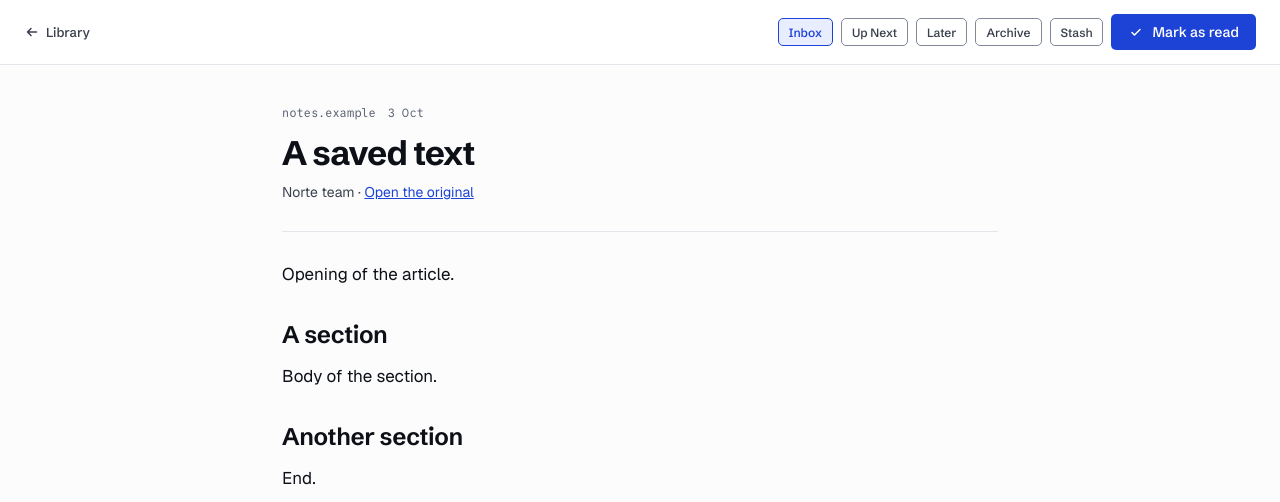
Scenario: the reader and the shelf an item sits on › marks it read and shows what came back
Click the button "Mark as read" at (1184, 32), box [1112,14,1256,50]
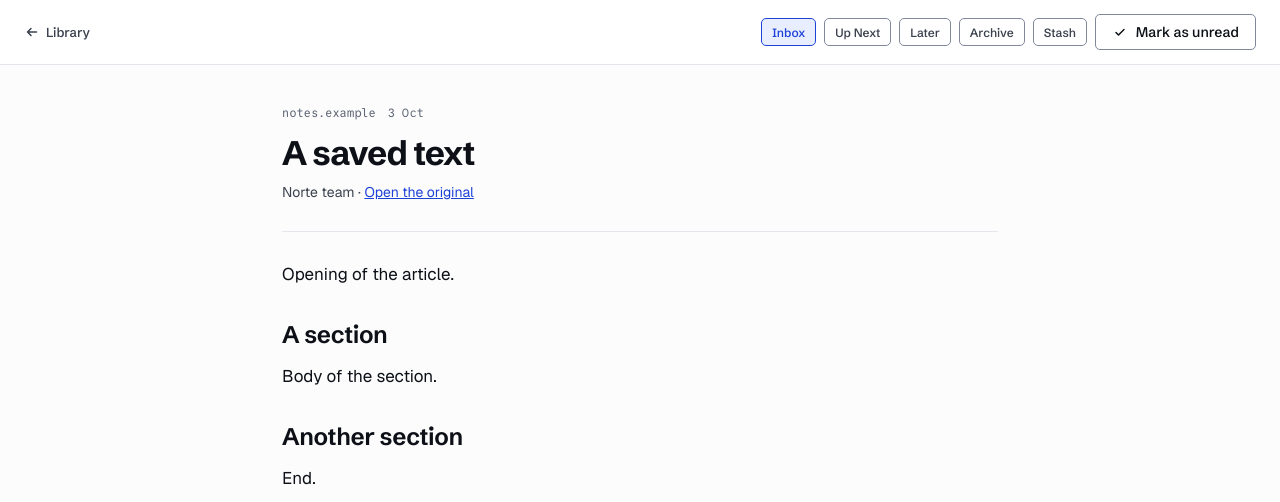
Now the button "Mark as unread" is shown, box [1095,14,1256,50]
